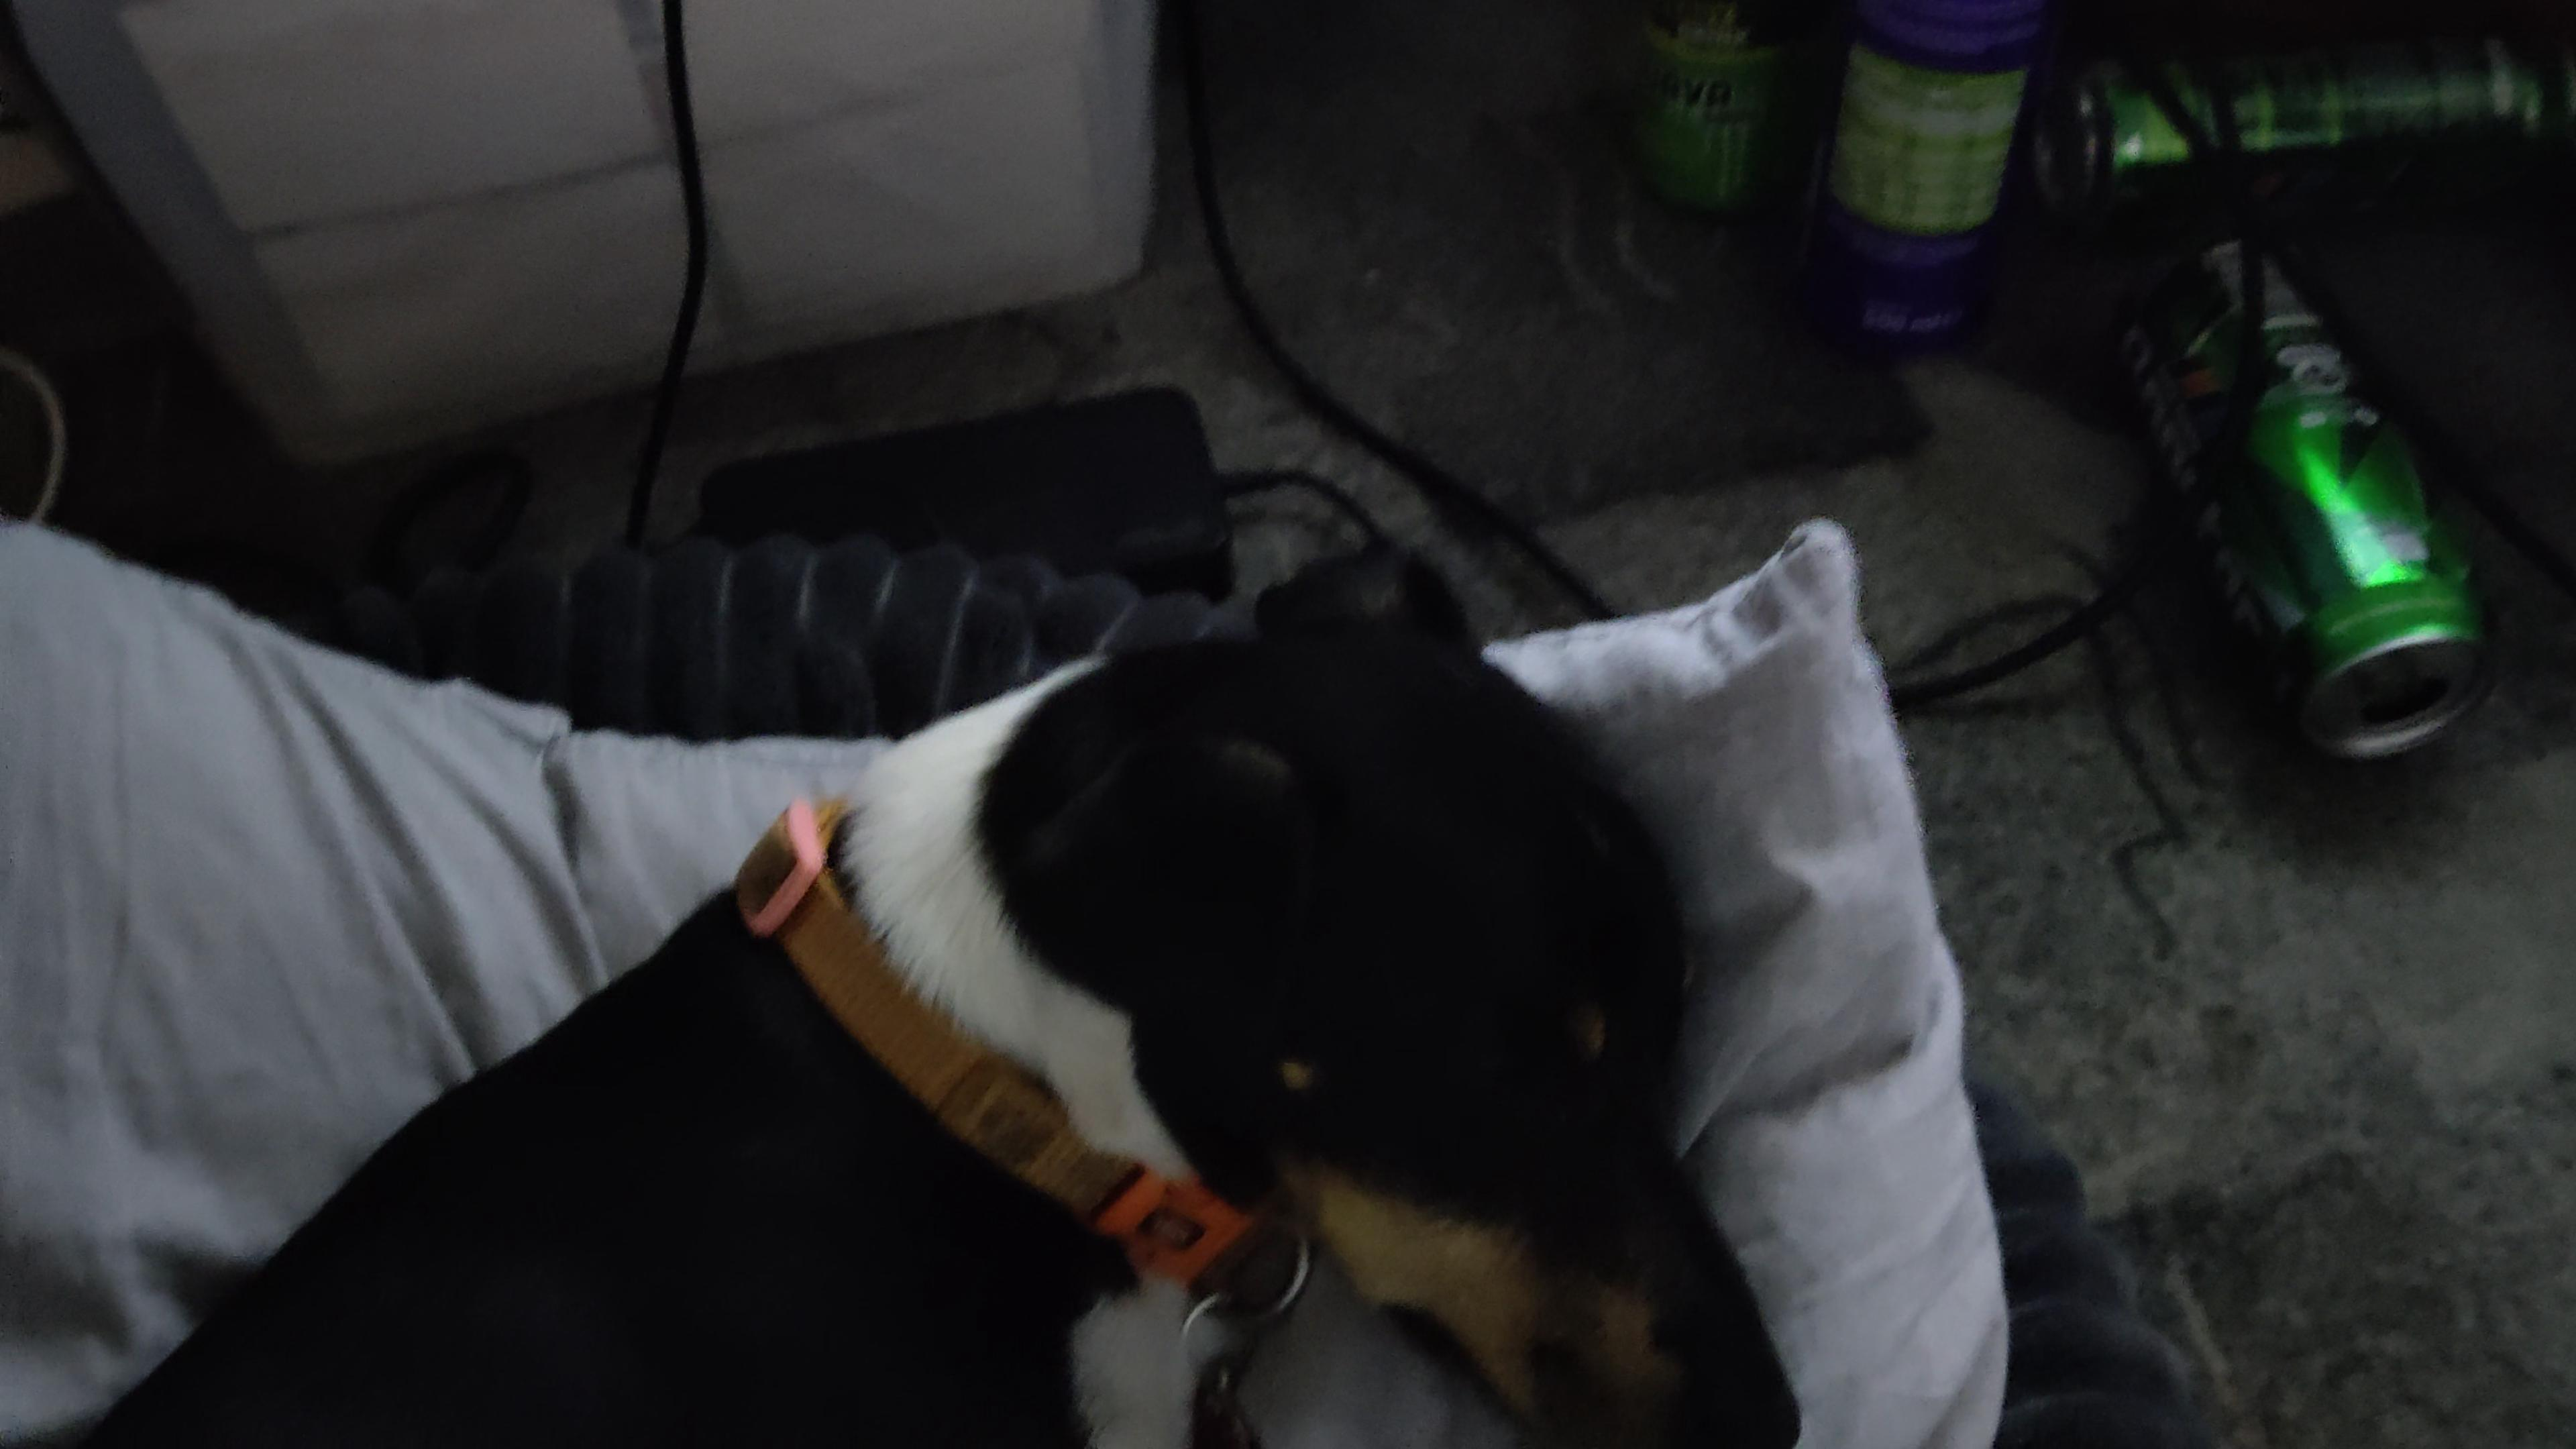Dog: (55, 524, 1819, 1449)
